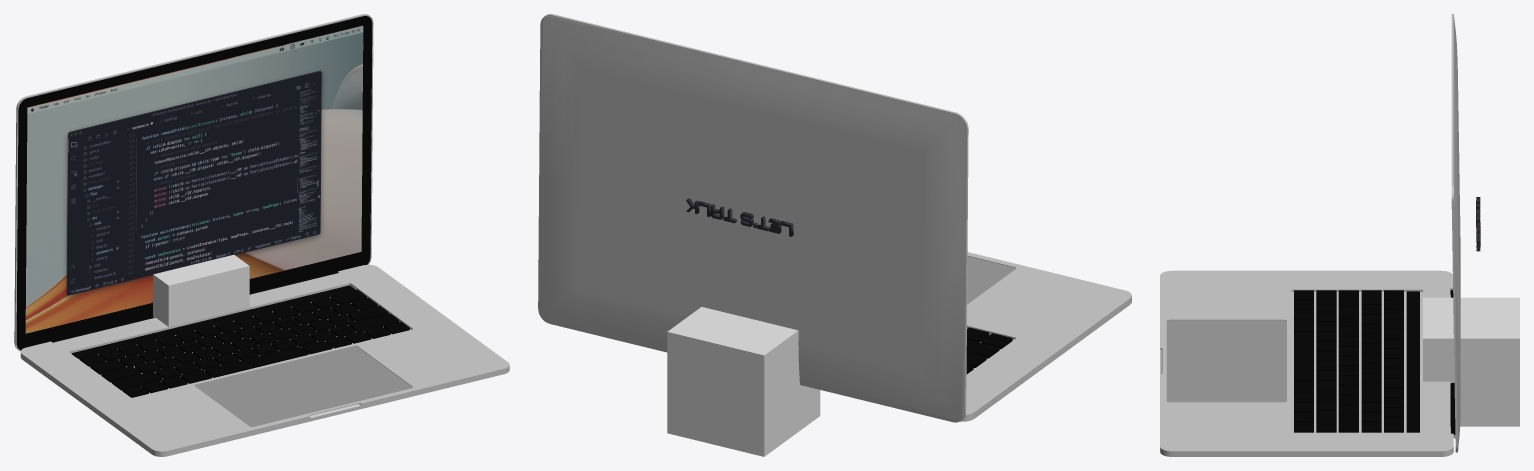
3 renders of one model, left to right at view 1: azimuth 30°, elevation 25°; view 2: azimuth 150°, elevation 25°; view 3: azimuth 270°, elevation 25°, orthographic. The views are drawn at different scales.
Parts seen in each view (by area): view 1: screen, base, keyboard, Cube, touchbar; view 2: screen, Cube, base, keyboard, Text; view 3: base, keyboard, Cube, screen, touchbar.
Part boxes in pixels (left/top/right/bottom): screen: left=14, top=14, right=373, bottom=351; base: left=20, top=264, right=509, bottom=456; keyboard: left=79, top=289, right=409, bottom=397; Cube: left=153, top=254, right=249, bottom=326; touchbar: left=71, top=285, right=355, bottom=358; screen: left=538, top=14, right=968, bottom=422; Cube: left=667, top=307, right=820, bottom=456; base: left=960, top=252, right=1131, bottom=421; keyboard: left=966, top=327, right=1012, bottom=374; Text: left=686, top=198, right=793, bottom=236; base: left=1160, top=270, right=1453, bottom=456; keyboard: left=1294, top=290, right=1403, bottom=432; Cube: left=1423, top=297, right=1519, bottom=426; screen: left=1450, top=14, right=1460, bottom=452; touchbar: left=1406, top=291, right=1419, bottom=432.
Bounding box in the file's own units: 8.81 × 6.95 × 7.42.
Materials: 8 (1 with a texture image).
